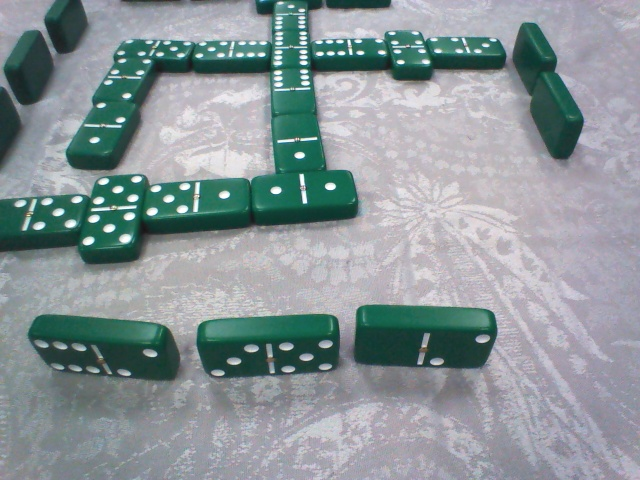B: (248, 166, 362, 224), (141, 177, 255, 229), (80, 172, 139, 260), (73, 99, 142, 174), (1, 192, 81, 251), (266, 105, 329, 173), (427, 30, 507, 72), (192, 36, 271, 73), (267, 62, 318, 118), (310, 34, 389, 70), (115, 33, 194, 69), (94, 58, 152, 107), (383, 28, 432, 76), (270, 29, 314, 70), (272, 1, 313, 35)
C: (4, 29, 57, 101), (41, 1, 92, 53), (1, 81, 25, 177)
D: (521, 69, 594, 165), (504, 24, 566, 93)
E: (20, 311, 185, 392), (351, 296, 501, 380), (198, 313, 343, 379)
